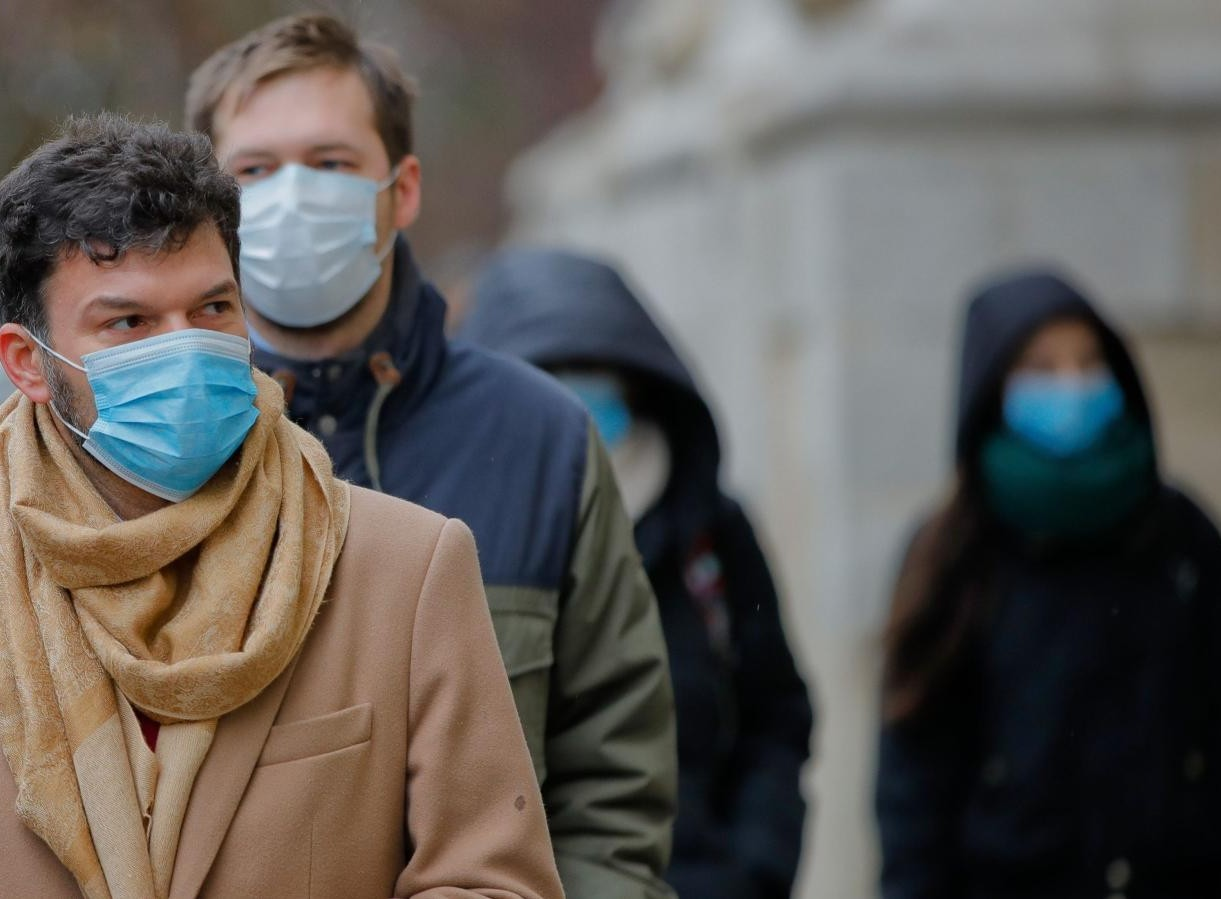with_mask: (6, 217, 258, 516), (201, 66, 422, 351), (993, 311, 1131, 465)
